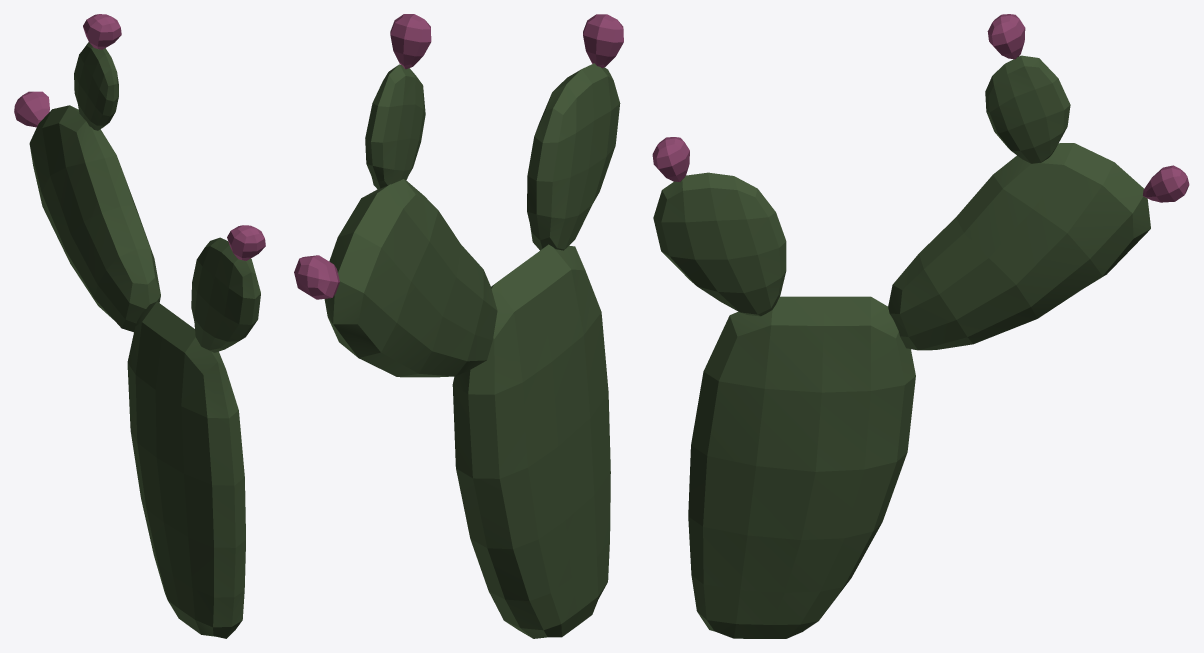
Rendered from Cactus_Flowers.glb.
3 views of the same model, side by side, from view 1: azimuth 30°, elevation 25°; view 2: azimuth 150°, elevation 25°; view 3: azimuth 270°, elevation 25° (orthographic). The views are drawn at different scales.
Parts seen in each view (by area): view 1: Cactus_Flowers_Merged; view 2: Cactus_Flowers_Merged; view 3: Cactus_Flowers_Merged.
Part boxes in pixels (left/top/right/bottom): Cactus_Flowers_Merged: left=14, top=14, right=265, bottom=638; Cactus_Flowers_Merged: left=294, top=14, right=623, bottom=638; Cactus_Flowers_Merged: left=652, top=14, right=1189, bottom=638.
Bounding box in the file's own units: 0.1117 × 0.9382 × 0.734.
